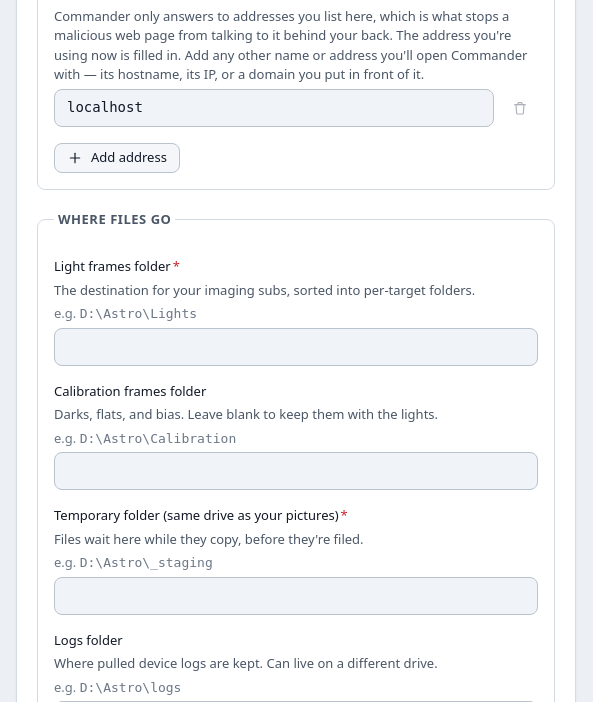
it: Setup — folder defaults › keeps what the operator typed before the server answered
(page scrolled)
Type "E:\\Mine" into the field labelled "Light frames folder*". click: (296, 346)
box: [54,328,538,366]
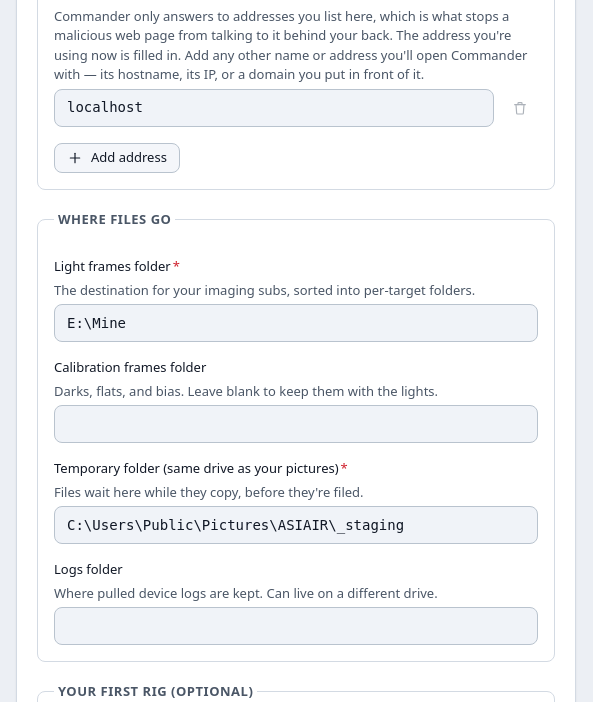
Expected: the field labelled "Temporary folder (same drive as your pictures)*" holds "C:\\Users\\Public\\Pictures\\ASIAIR\\_staging", [54,506,538,544]
